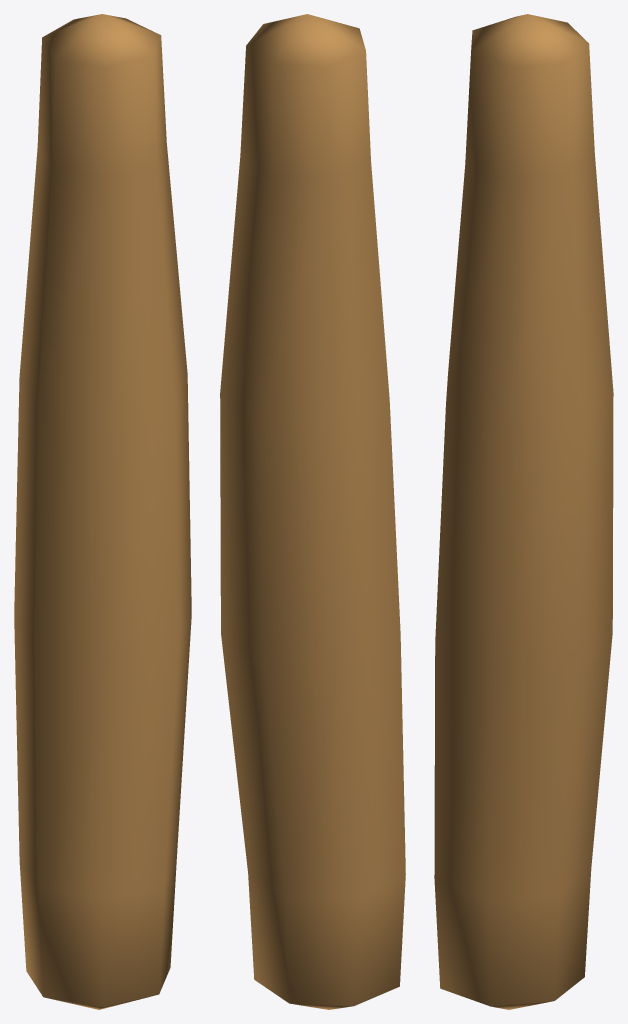
Rendered from tarsus3_T3_right_leg.obj.
3 renders of one model, left to right at view 1: azimuth 30°, elevation 25°; view 2: azimuth 150°, elevation 25°; view 3: azimuth 270°, elevation 25°, orthographic.
Size of the model in its own units: 0.00254 by 0.0154 by 0.0025.
